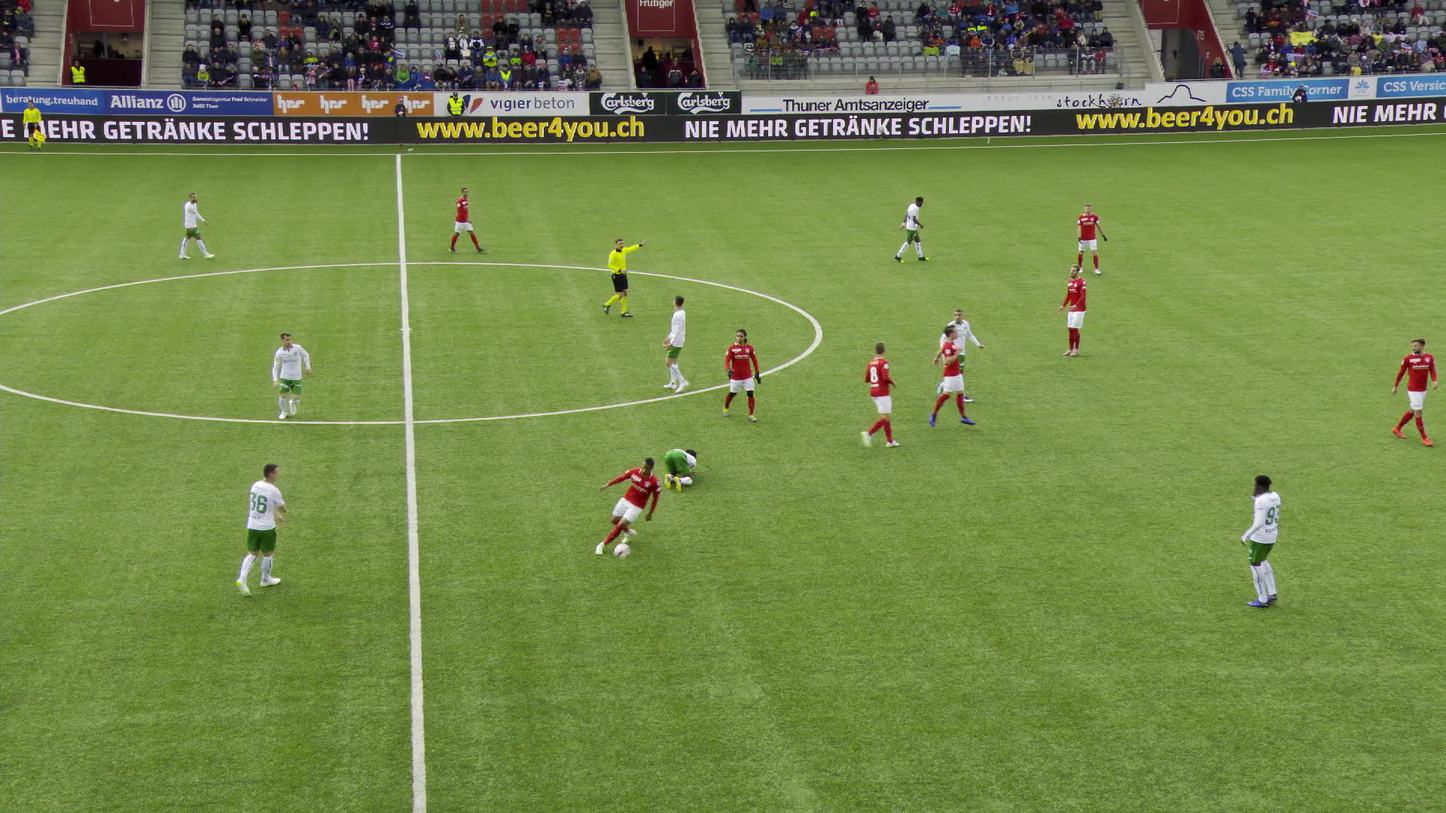ball: (615, 544, 629, 557)
player: (234, 463, 289, 593), (594, 456, 662, 553), (1239, 473, 1286, 611), (1391, 337, 1438, 446), (926, 324, 974, 430), (937, 309, 983, 403), (859, 340, 898, 449), (269, 329, 313, 420), (656, 294, 693, 394), (721, 328, 759, 421), (1056, 264, 1088, 358), (1073, 203, 1106, 274), (896, 194, 929, 263), (447, 187, 479, 254), (176, 191, 206, 260), (663, 446, 697, 493)
referee: (601, 237, 648, 318), (23, 100, 46, 151)
